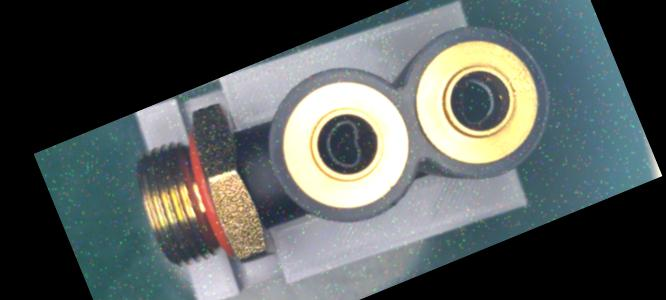off-centered: (442, 67, 507, 134), (313, 112, 377, 175)
